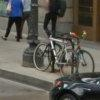Bicycle: (30, 30, 94, 76)
